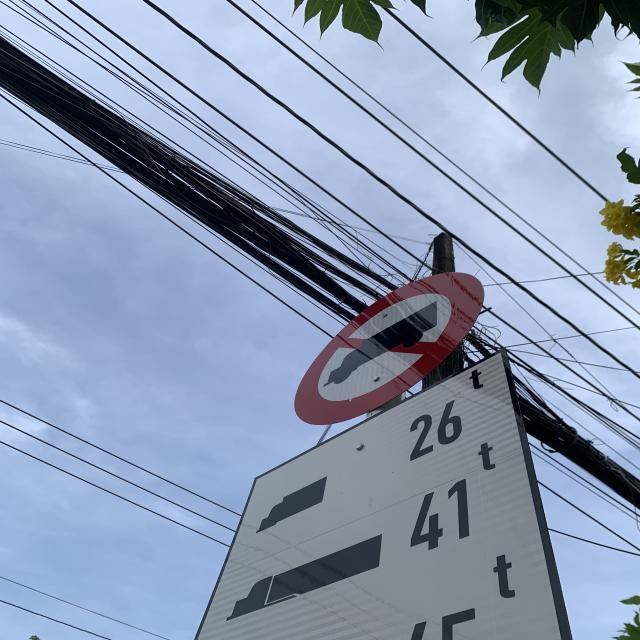Cam_Xe_Tai: (295, 272, 488, 428)
